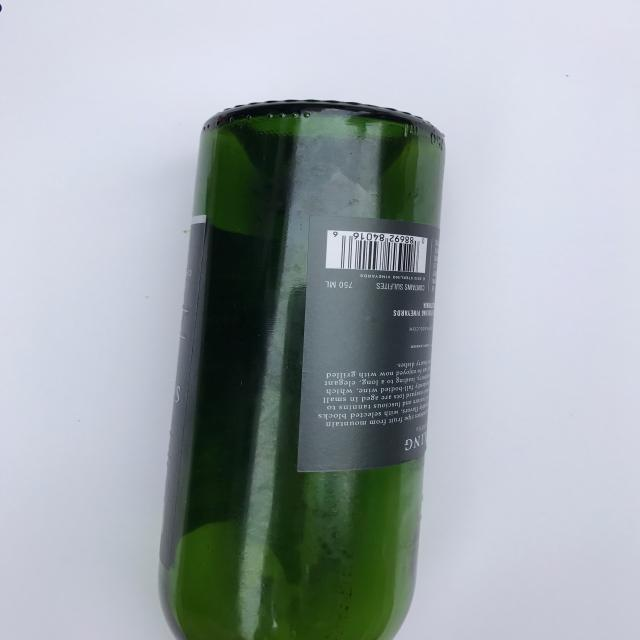glass: (157, 98, 446, 640)
